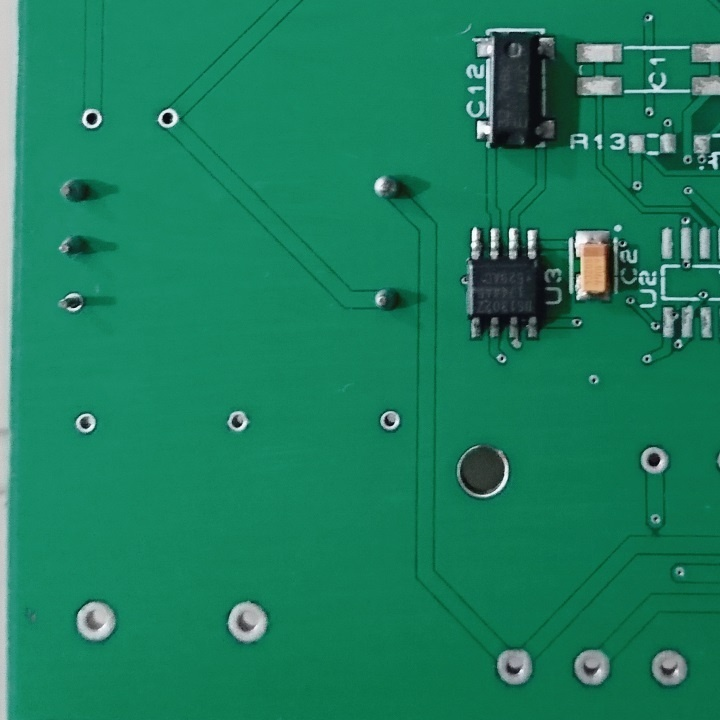F: (222, 595, 273, 649), (69, 597, 121, 647), (570, 646, 615, 690), (646, 646, 691, 690), (493, 648, 536, 688), (634, 442, 671, 477), (55, 284, 86, 320), (153, 105, 184, 133), (376, 406, 404, 435), (70, 409, 98, 437), (77, 106, 104, 132), (225, 409, 251, 435)
